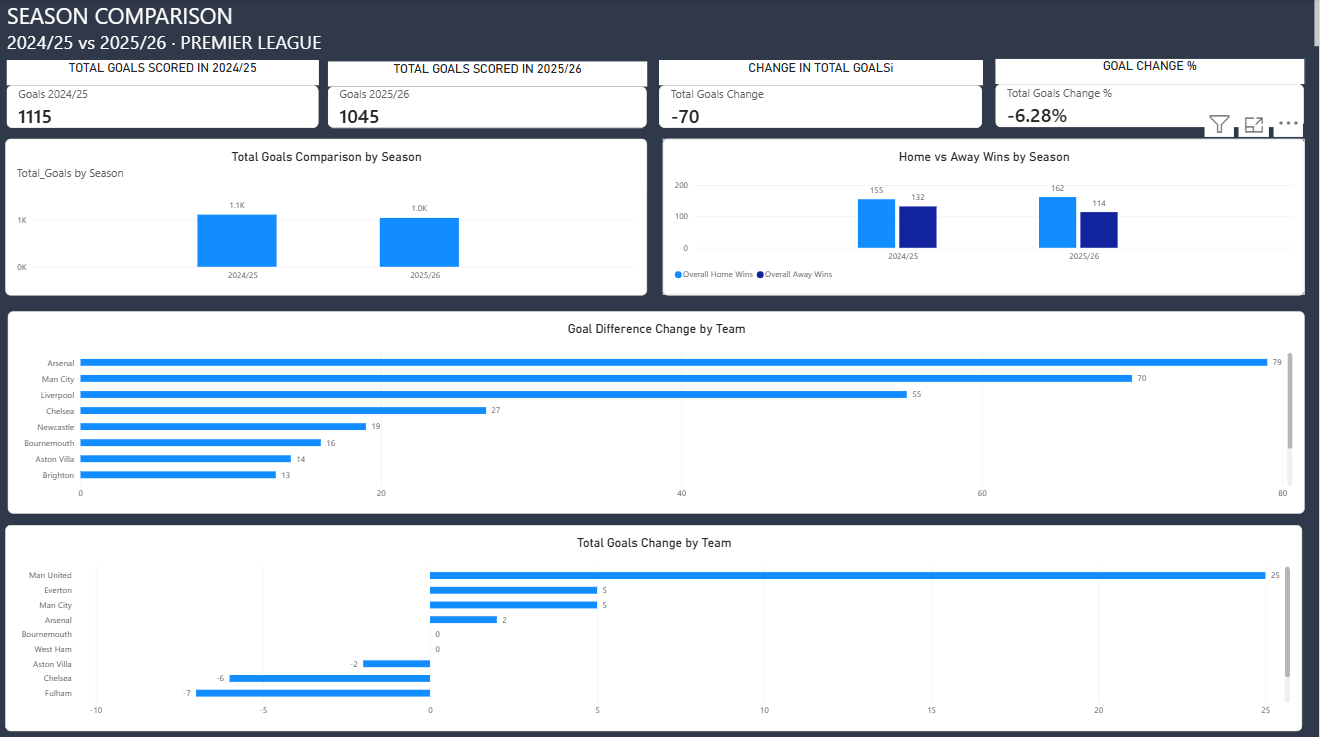

The dashboard page shown, as its layout file describes it:
{"tool":"powerbi","page":{"name":"Season Comparison","canvas":[1920,1080],"ordinal":3},"visuals":[{"type":"textbox","box":[10.3,0,1910.1,72],"z":0},{"type":"cardVisual","title":"TOTAL GOALS SCORED IN 2024/25","fields":{"Data":["E0.Goals 2024/25"]},"box":[10.3,86.7,454.3,99.1],"z":1},{"type":"cardVisual","title":"TOTAL GOALS SCORED IN 2025/26","fields":{"Data":["E0.Goals 2025/26"]},"box":[479.1,88.8,464.6,97.1],"z":5},{"type":"cardVisual","title":"CHANGE IN TOTAL GOALSi","fields":{"Data":["E0.Total Goals Change"]},"box":[960.2,86.7,470.8,99.1],"z":6},{"type":"cardVisual","title":"GOAL CHANGE %","fields":{"Data":["E0.Total Goals Change %"]},"box":[1449,86,449.4,100.7],"z":7},{"type":"clusteredColumnChart","title":"Total Goals Comparison by Season","fields":{"Category":["E0.Season"],"Y":["E0.Total_Goals"]},"box":[9.8,201.4,933.2,228.4],"z":8},{"type":"clusteredColumnChart","title":"Home vs Away Wins by Season","fields":{"Category":["E0.Season"],"Y":["E0.Overall Home Wins","E0.Overall Away Wins"]},"box":[965.2,201.4,933.2,228.4],"z":9},{"type":"clusteredBarChart","title":"Goal Difference Change by Team","fields":{"Category":["Teams.TeamName"],"Y":["E0.Goal Difference by Team"]},"box":[12.3,451.9,1886.1,294.7],"z":10},{"type":"clusteredBarChart","title":"Total Goals Change by Team","fields":{"Category":["Teams.TeamName"],"Y":["E0.Total Goals Change by Team"]},"box":[9.8,763.8,1886.1,299.6],"z":11}]}

Visuals, with their boxes in screenshot pixels (x1, y1, x2, y2), scaled from the page's 1920x1080 canvas onto the 1320x737 screenshot:
textbox: region(7, 0, 1319, 49)
"TOTAL GOALS SCORED IN 2024/25" cardVisual: region(7, 59, 319, 127)
"TOTAL GOALS SCORED IN 2025/26" cardVisual: region(329, 61, 649, 127)
"CHANGE IN TOTAL GOALSi" cardVisual: region(660, 59, 984, 127)
"GOAL CHANGE %" cardVisual: region(996, 59, 1305, 127)
"Total Goals Comparison by Season" clusteredColumnChart: region(7, 137, 648, 293)
"Home vs Away Wins by Season" clusteredColumnChart: region(664, 137, 1305, 293)
"Goal Difference Change by Team" clusteredBarChart: region(8, 308, 1305, 509)
"Total Goals Change by Team" clusteredBarChart: region(7, 521, 1303, 726)
